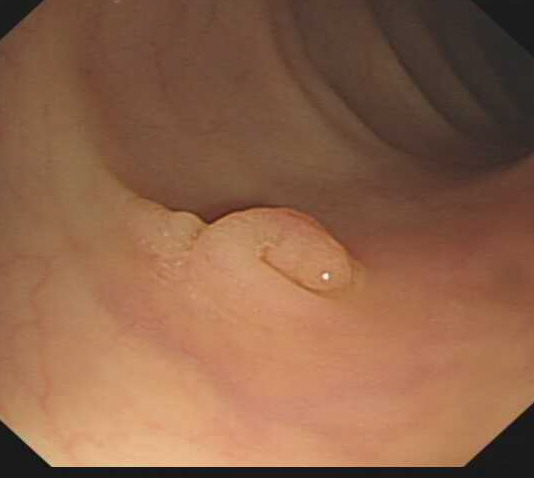adenoma: (121, 199, 360, 294)
